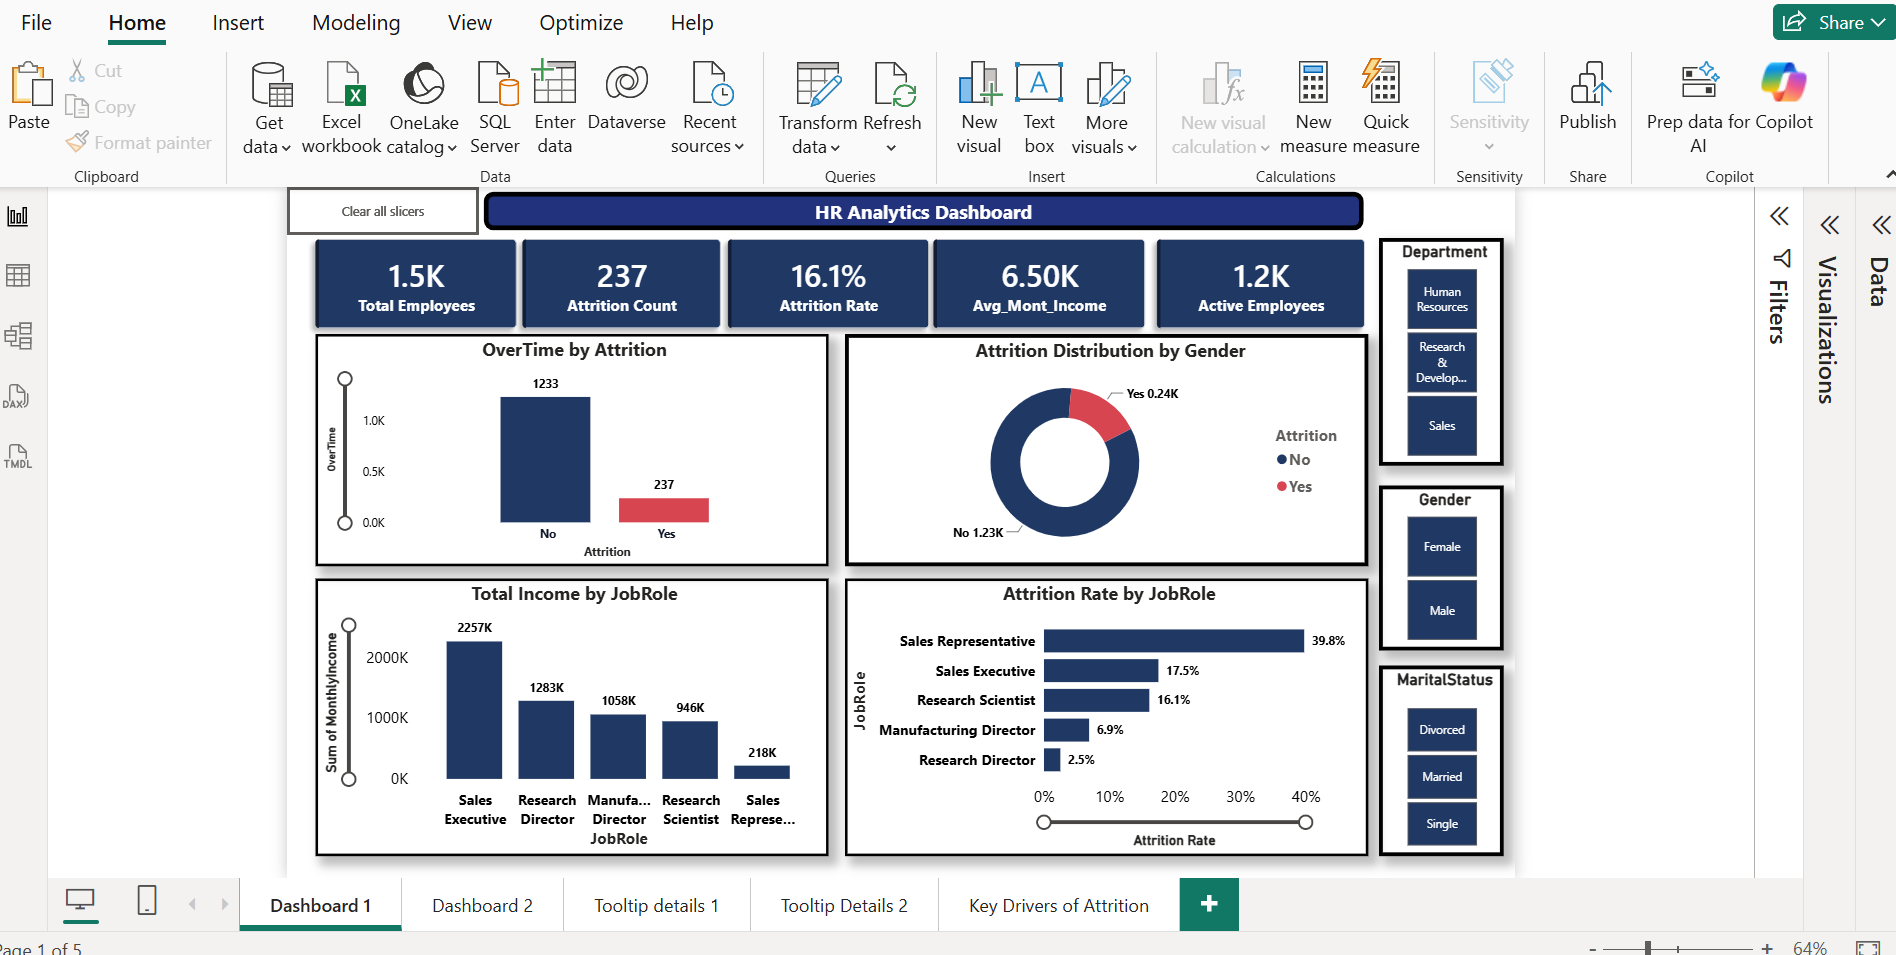

This screenshot's page, from the dashboard's own definition file:
{"tool":"powerbi","page":{"name":"Dashboard 1","canvas":[1280,720],"ordinal":0},"visuals":[{"type":"shape","box":[134.4,0,992.5,50],"z":0},{"type":"cardVisual","fields":{"Data":["HR_Data.Total Employees"]},"box":[0,25.4,268.8,151.1],"z":1000},{"type":"cardVisual","fields":{"Data":["HR_Data.Attrition Count"]},"box":[215.7,25,265.7,151.6],"z":2000},{"type":"cardVisual","fields":{"Data":["HR_Data.Attrition Rate"]},"box":[429.5,25.4,268.8,151.1],"z":3000},{"type":"cardVisual","fields":{"Data":["HR_Data.Active Employees"]},"box":[876.4,25.4,275.2,151.1],"z":4000},{"type":"clusteredBarChart","title":"Attrition Rate  by JobRole","fields":{"Category":["HR_Data.JobRole"],"Y":["HR_Data.Attrition Rate"]},"box":[581.4,407.9,545.5,289.2],"z":5000},{"type":"columnChart","title":"Total Income by JobRole","fields":{"Category":["HR_Data.JobRole"],"Y":["Sum(HR_Data.MonthlyIncome)"]},"box":[29.7,407.9,534.5,289.2],"z":6000},{"type":"cardVisual","fields":{"Data":["HR_Data.Avg_Mont_Income"]},"box":[644.2,25.4,279.9,151.1],"z":7000},{"type":"clusteredColumnChart","title":" OverTime by Attrition","fields":{"Category":["HR_Data.Attrition"],"Y":["CountNonNull(HR_Data.OverTime)"]},"box":[29.7,153.2,534.5,242.3],"z":8000},{"type":"donutChart","title":" Attrition Distribution by Gender ","fields":{"Category":["HR_Data.Attrition"],"Y":["CountNonNull(HR_Data.Gender)"]},"box":[581.4,153.2,545.5,242.3],"z":9000},{"type":"slicer","title":"Department","fields":{"Values":["HR-Employee-Attrition.Department"]},"box":[1137.9,53.1,129.7,237.6],"z":10000},{"type":"slicer","title":"Gender","fields":{"Values":["HR-Employee-Attrition.Gender"]},"box":[1137.9,311,129.7,171.9],"z":11000},{"type":"slicer","title":"MaritalStatus","fields":{"Values":["HR-Employee-Attrition.MaritalStatus"]},"box":[1137.9,498.6,129.7,198.5],"z":12000},{"type":"actionButton","box":[0,0,107.8,39.1],"z":15000}]}

Visuals, with their boxes on the page's 1280x720 design canvas (x1, y1, x2, y2). These are canvas units, not pixel positions in the 1896x955 screenshot, which may show the page scaled, cropped or inside an application window:
shape: region(134, 0, 1127, 50)
cardVisual - HR_Data.Total Employees: region(0, 25, 269, 176)
cardVisual - HR_Data.Attrition Count: region(216, 25, 481, 177)
cardVisual - HR_Data.Attrition Rate: region(430, 25, 698, 176)
cardVisual - HR_Data.Active Employees: region(876, 25, 1152, 176)
"Attrition Rate  by JobRole" clusteredBarChart: region(581, 408, 1127, 697)
"Total Income by JobRole" columnChart: region(30, 408, 564, 697)
cardVisual - HR_Data.Avg_Mont_Income: region(644, 25, 924, 176)
" OverTime by Attrition" clusteredColumnChart: region(30, 153, 564, 396)
" Attrition Distribution by Gender " donutChart: region(581, 153, 1127, 396)
"Department" slicer: region(1138, 53, 1268, 291)
"Gender" slicer: region(1138, 311, 1268, 483)
"MaritalStatus" slicer: region(1138, 499, 1268, 697)
actionButton: region(0, 0, 108, 39)
